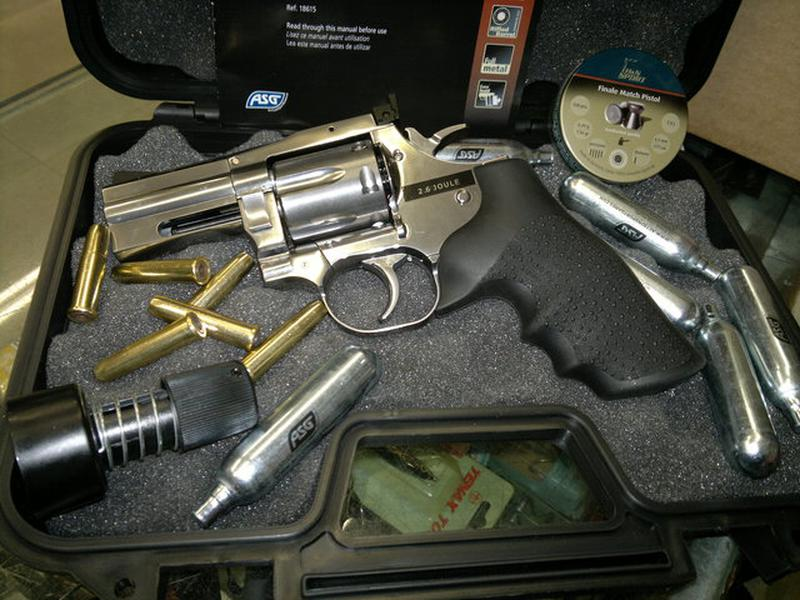Revolver: (89, 106, 712, 385)
